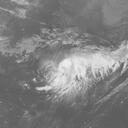cyclone: (52, 43, 98, 92)
